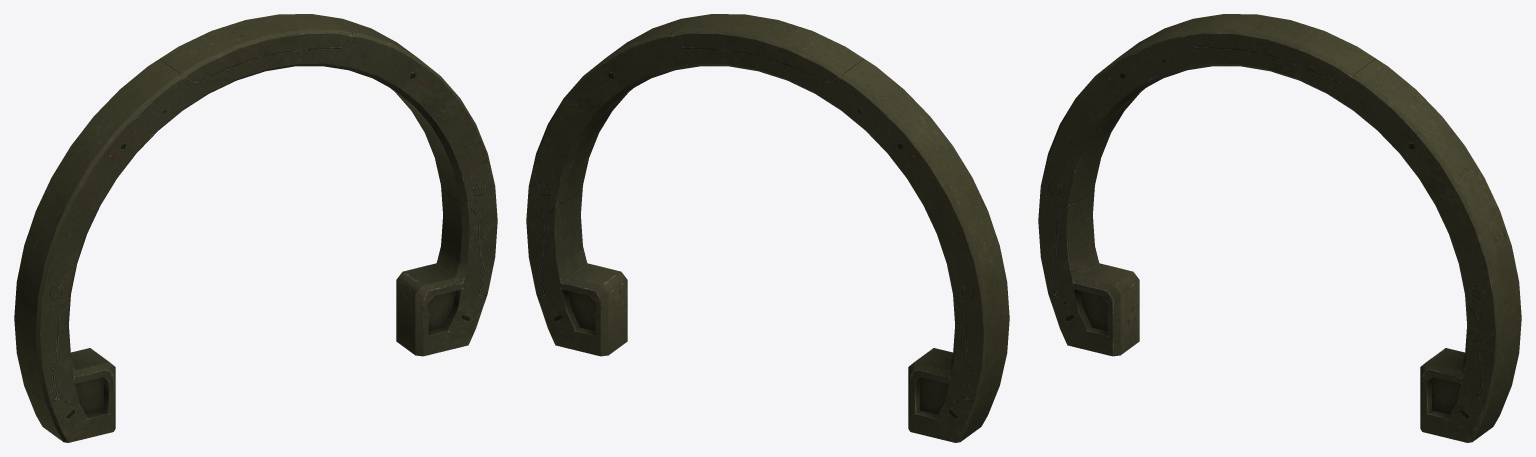
The model's file is slidedoor_data_tunnel_frame.DAE.
The picture shows the model from 3 angles, left to right: view 1: azimuth 30°, elevation 25°; view 2: azimuth 150°, elevation 25°; view 3: azimuth 330°, elevation 25°; orthographic projection.
Visible parts, largest first — view 1: slidedoor_data_tunnel_frame_LP; view 2: slidedoor_data_tunnel_frame_LP; view 3: slidedoor_data_tunnel_frame_LP.
Part boxes in pixels (bbox=[...]): slidedoor_data_tunnel_frame_LP: bbox=[14, 14, 497, 442]; slidedoor_data_tunnel_frame_LP: bbox=[526, 14, 1009, 442]; slidedoor_data_tunnel_frame_LP: bbox=[1038, 14, 1521, 442].
Bounding box in the file's own units: 15.89 × 1.49 × 11.73.
